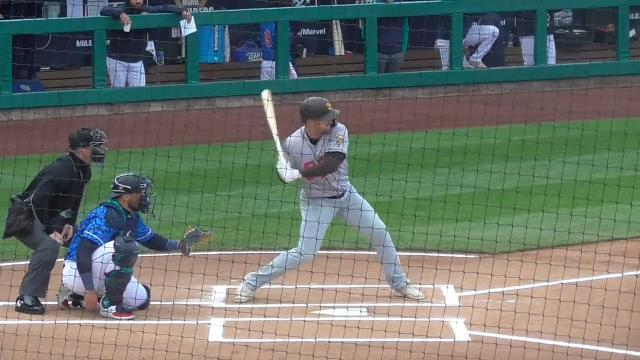baseball bat: (260, 87, 288, 161)
